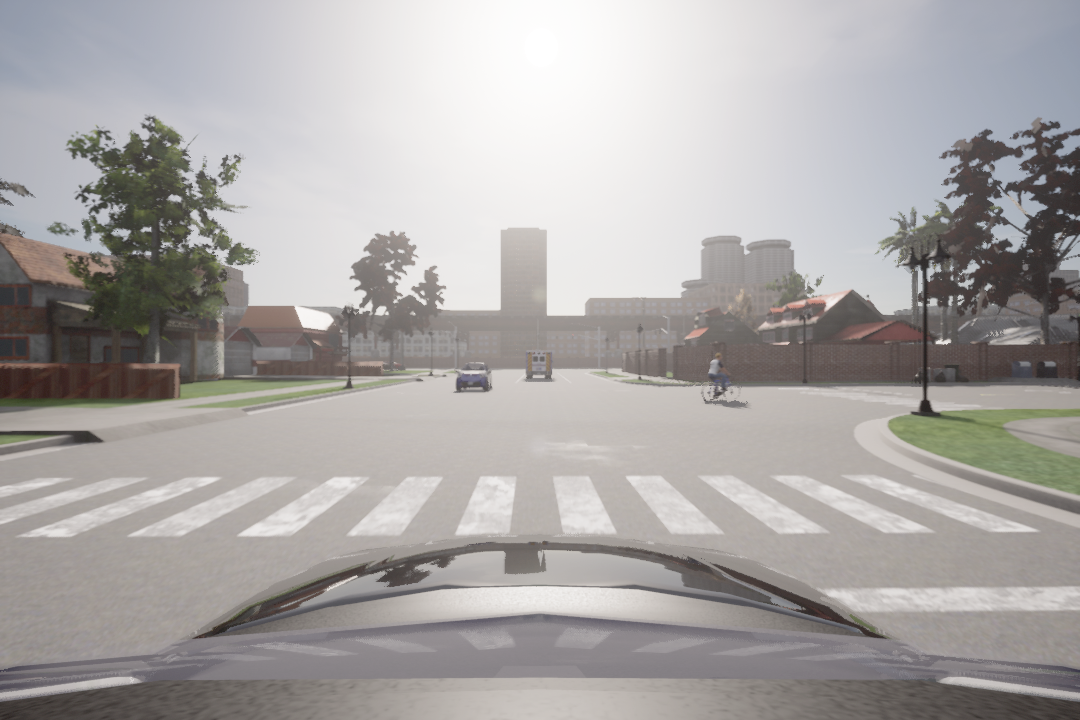walkside: (4, 470, 1040, 545)
